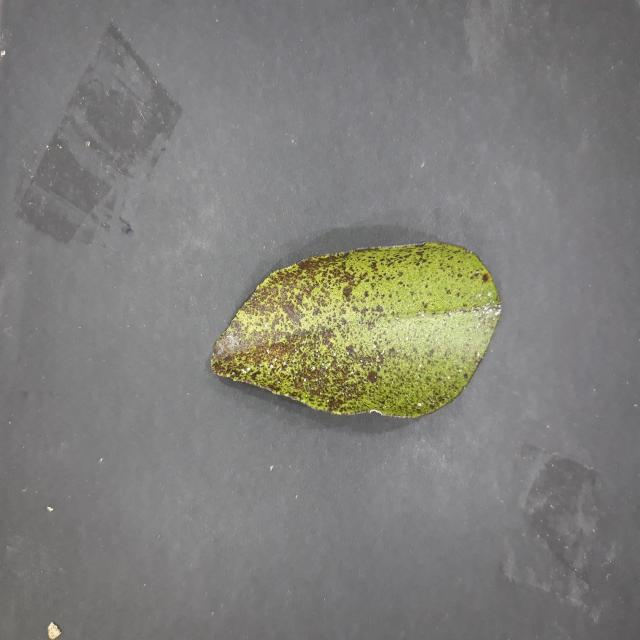greasy_spot: (211, 242, 501, 417)
